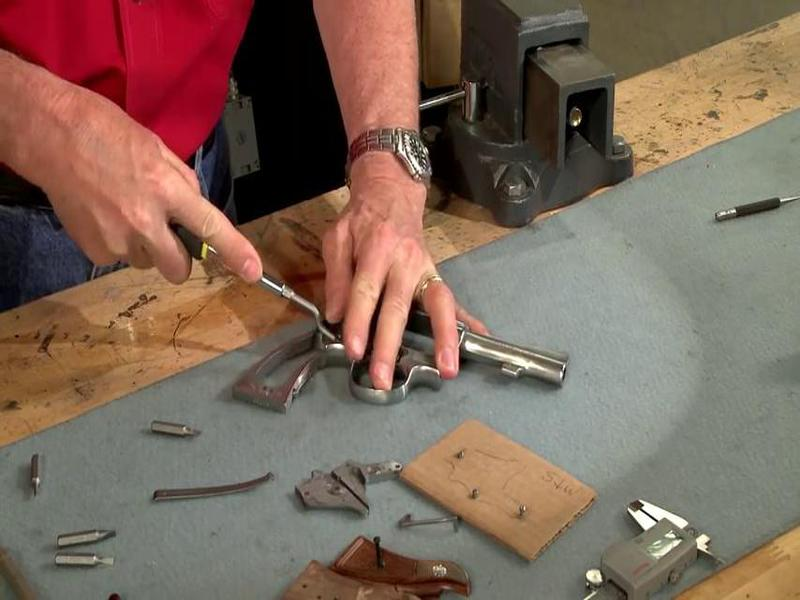Revolver: (266, 246, 569, 450)
